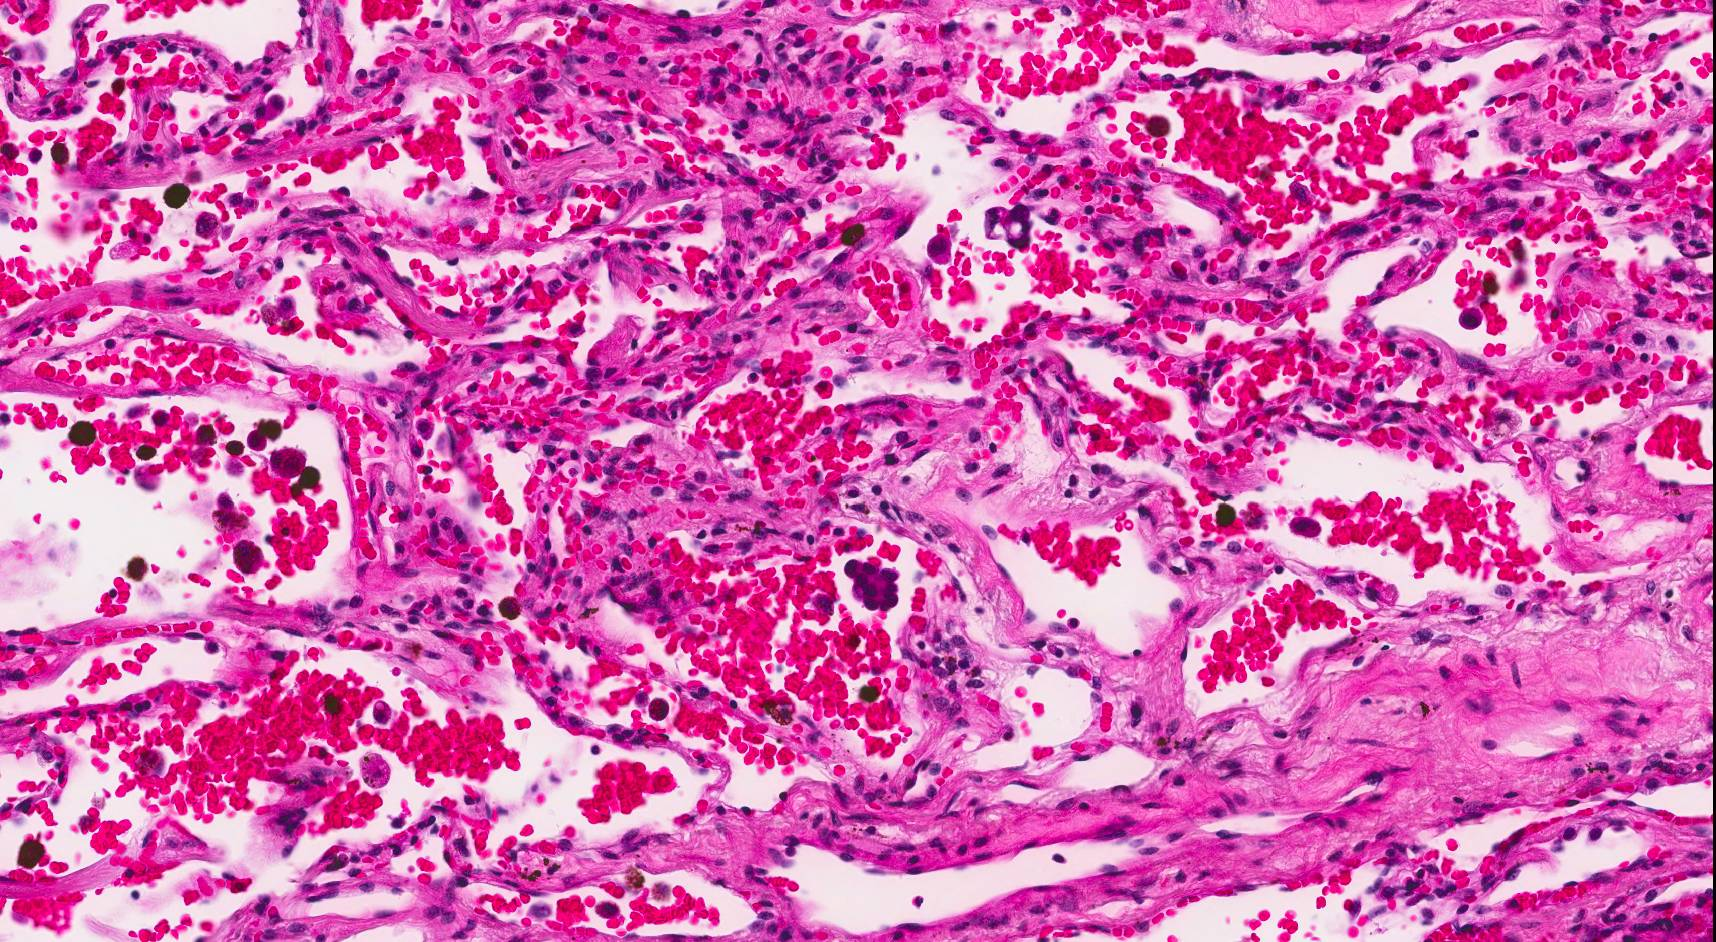stas: (841, 559, 901, 613), (982, 200, 1042, 249)
